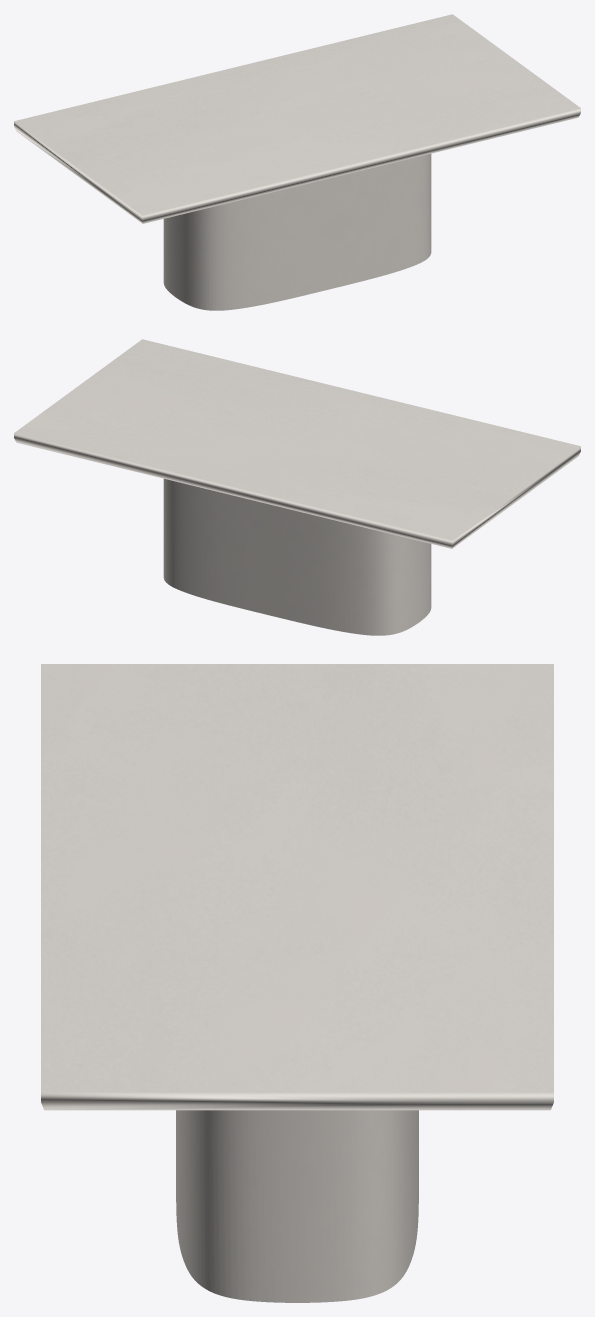
File: pearlwhite_recta_facet_fixed.glb
3 views of the same model, one above another, from view 1: azimuth 30°, elevation 25°; view 2: azimuth 150°, elevation 25°; view 3: azimuth 270°, elevation 25° (orthographic). The views are drawn at different scales.
Visible parts, largest first — view 1: tabletop_recta_facet.018, tableleg_fixed.019; view 2: tabletop_recta_facet.018, tableleg_fixed.019; view 3: tabletop_recta_facet.018, tableleg_fixed.019.
Part boxes in pixels (x1=…): tabletop_recta_facet.018: x1=14, y1=14, x2=580, y2=223; tableleg_fixed.019: x1=163, y1=153, x2=431, y2=310; tabletop_recta_facet.018: x1=14, y1=339, x2=580, y2=548; tableleg_fixed.019: x1=163, y1=479, x2=431, y2=635; tabletop_recta_facet.018: x1=41, y1=664, x2=553, y2=1110; tableleg_fixed.019: x1=176, y1=1110, x2=418, y2=1302.
Bounding box in the file's own units: 7.5 × 2.5 × 3.8.
1 material, 1 textured.
